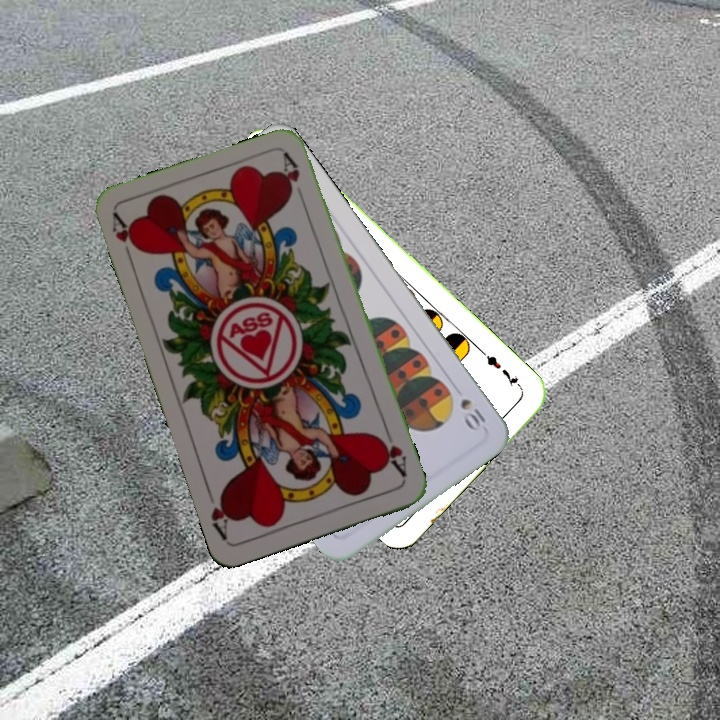E7: (477, 347, 525, 392)
HA: (107, 210, 143, 268), (374, 424, 410, 480)
S10: (456, 394, 489, 435)
